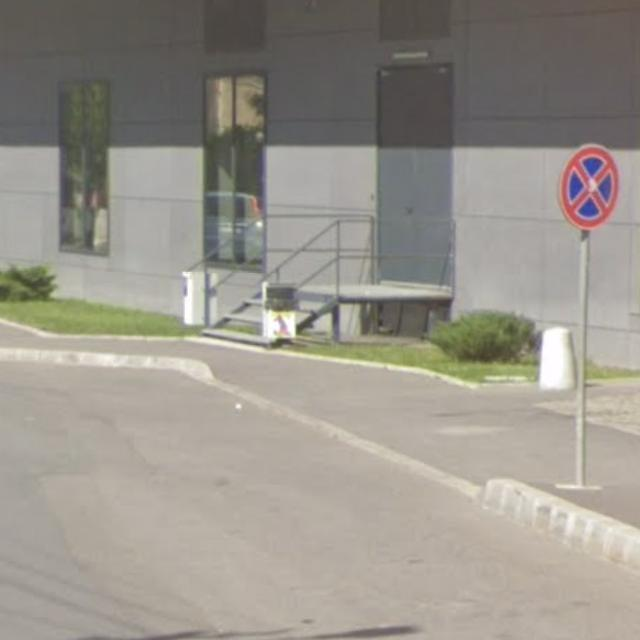forb_waiting: (557, 146, 619, 230)
